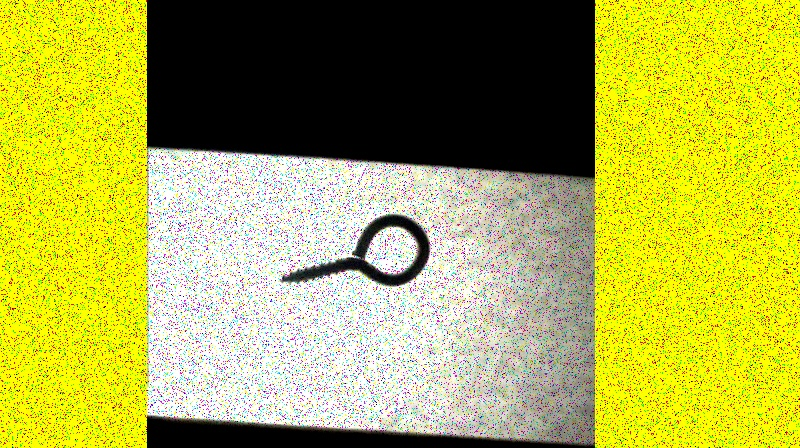O001: (275, 209, 430, 291)
